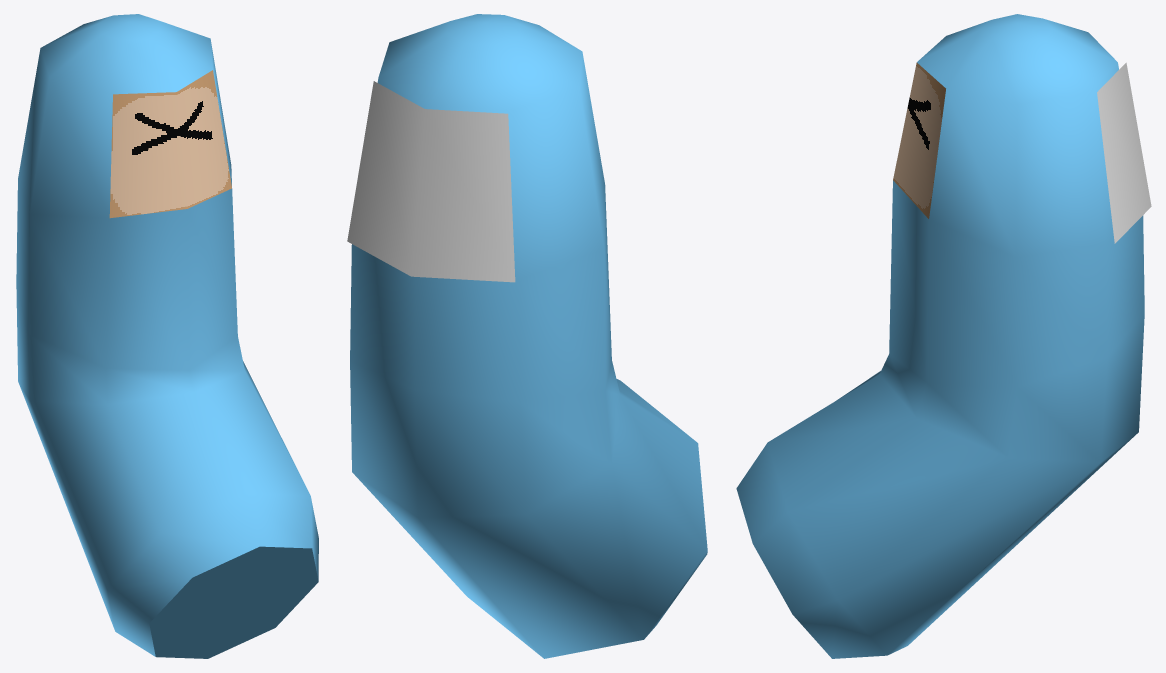
Rendered from OTA_D_02.glb.
The picture shows the model from 3 angles, left to right: view 1: azimuth 30°, elevation 25°; view 2: azimuth 150°, elevation 25°; view 3: azimuth 270°, elevation 25°; orthographic projection. The views are drawn at different scales.
Parts seen in each view (by area): view 1: FRAME_ROOT; view 2: FRAME_ROOT; view 3: FRAME_ROOT.
Boxes of the visible parts, left/top/right/bottom form: FRAME_ROOT: left=16, top=14, right=318, bottom=658; FRAME_ROOT: left=347, top=14, right=707, bottom=658; FRAME_ROOT: left=736, top=14, right=1151, bottom=658.
Size of the model in its own units: 1.28 by 3.35 by 2.01.
3 materials, 3 textured.
